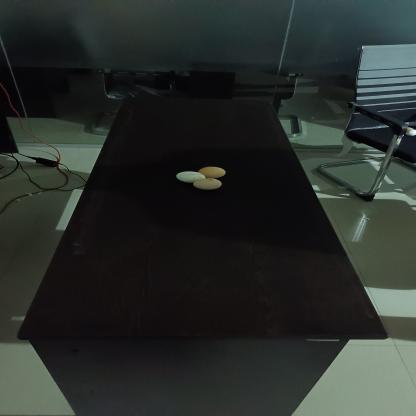egg: (174, 169, 206, 184), (194, 176, 224, 190), (202, 164, 229, 178)
